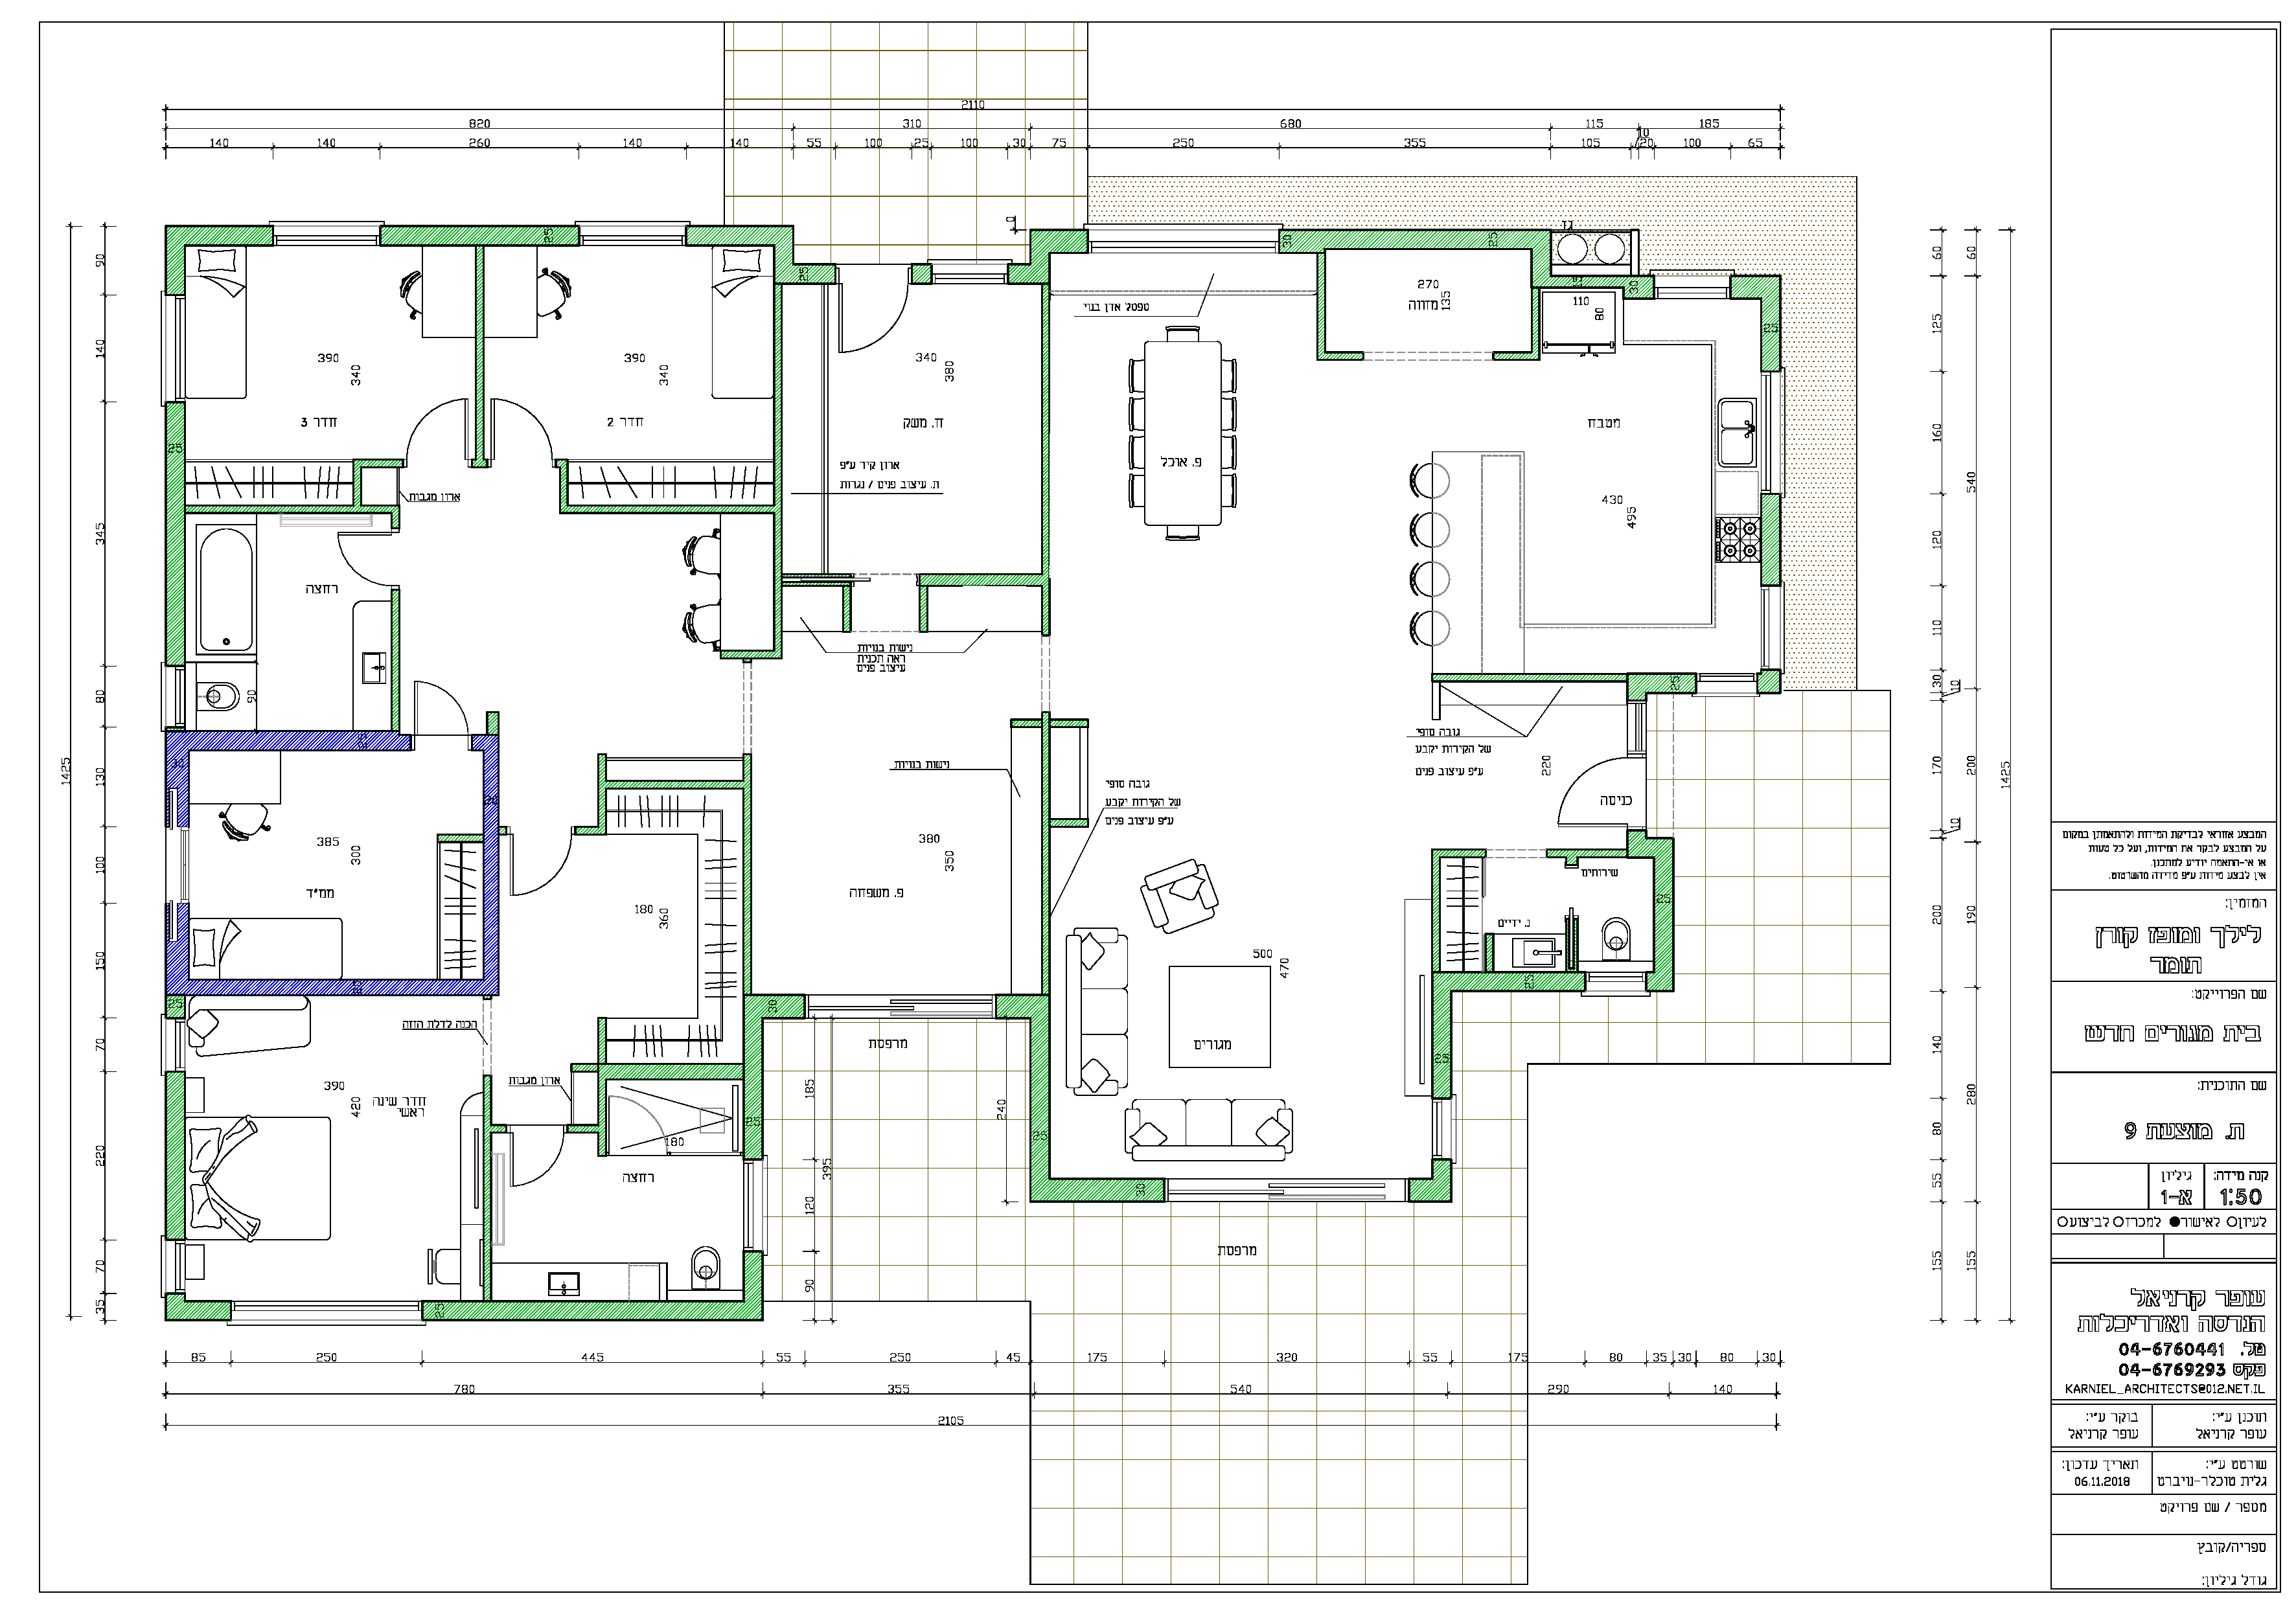door: (1548, 757, 1624, 834), (506, 843, 584, 911), (834, 297, 916, 361), (400, 380, 471, 448), (489, 382, 560, 450), (403, 668, 478, 731), (326, 529, 386, 593), (508, 1139, 569, 1199)
md: (112, 56, 1933, 1385)
rd: (2020, 780, 2286, 1586)
wall: (422, 1302, 761, 1317), (1282, 230, 1549, 250), (166, 403, 185, 665), (166, 979, 495, 993), (166, 731, 400, 750), (483, 736, 497, 991), (382, 227, 576, 244), (166, 1073, 183, 1239), (1033, 995, 1047, 1200), (745, 998, 762, 1157), (1035, 1180, 1162, 1200), (775, 283, 782, 656), (1654, 841, 1671, 989), (1043, 284, 1050, 633), (1432, 974, 1584, 989), (1432, 974, 1452, 1096), (689, 227, 790, 244), (598, 1066, 740, 1078), (167, 227, 274, 243), (743, 757, 750, 988), (476, 246, 483, 462), (1762, 279, 1778, 370), (1432, 674, 1624, 680), (919, 576, 1042, 586), (743, 1255, 762, 1317), (166, 227, 183, 293), (560, 506, 780, 511), (1031, 230, 1085, 251), (188, 508, 400, 513), (166, 1302, 229, 1319), (1431, 850, 1439, 970), (1534, 277, 1652, 286), (1043, 714, 1047, 996), (1628, 675, 1691, 691), (775, 232, 794, 283), (393, 593, 400, 731), (600, 782, 750, 787), (597, 754, 605, 834), (598, 1064, 605, 1153), (1319, 255, 1324, 359), (1548, 850, 1626, 857), (1532, 288, 1539, 358), (722, 651, 780, 658), (598, 1019, 605, 1061), (562, 462, 567, 513), (354, 461, 403, 466), (354, 461, 359, 508), (921, 586, 926, 632), (844, 586, 850, 632), (438, 836, 483, 841)
window: (227, 1293, 426, 1337), (1080, 234, 1286, 267), (269, 215, 384, 251), (576, 218, 689, 251), (159, 291, 192, 405), (1759, 366, 1785, 497), (735, 1157, 769, 1255), (1755, 581, 1790, 674), (1649, 267, 1736, 304), (928, 256, 1010, 293), (1692, 665, 1762, 707), (1581, 965, 1649, 1003), (1425, 1096, 1462, 1162), (157, 663, 190, 735), (155, 1237, 192, 1295), (155, 1014, 188, 1073), (1624, 700, 1650, 759)
